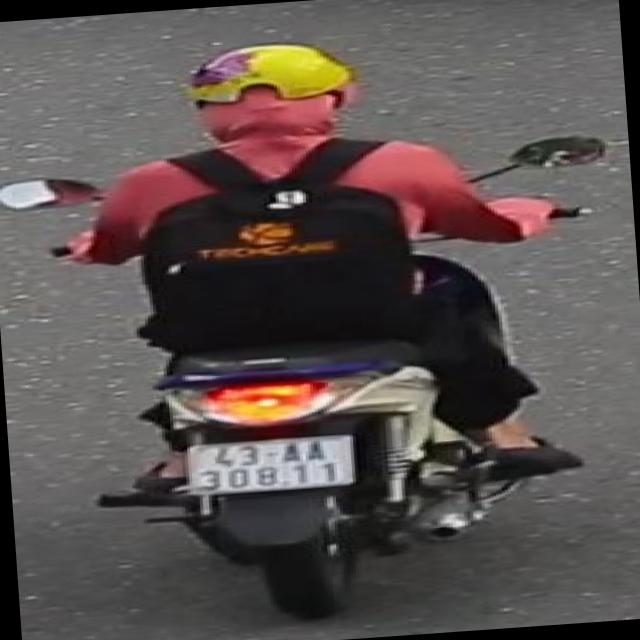LP: (186, 430, 365, 502)
helmet: (175, 30, 364, 154)
